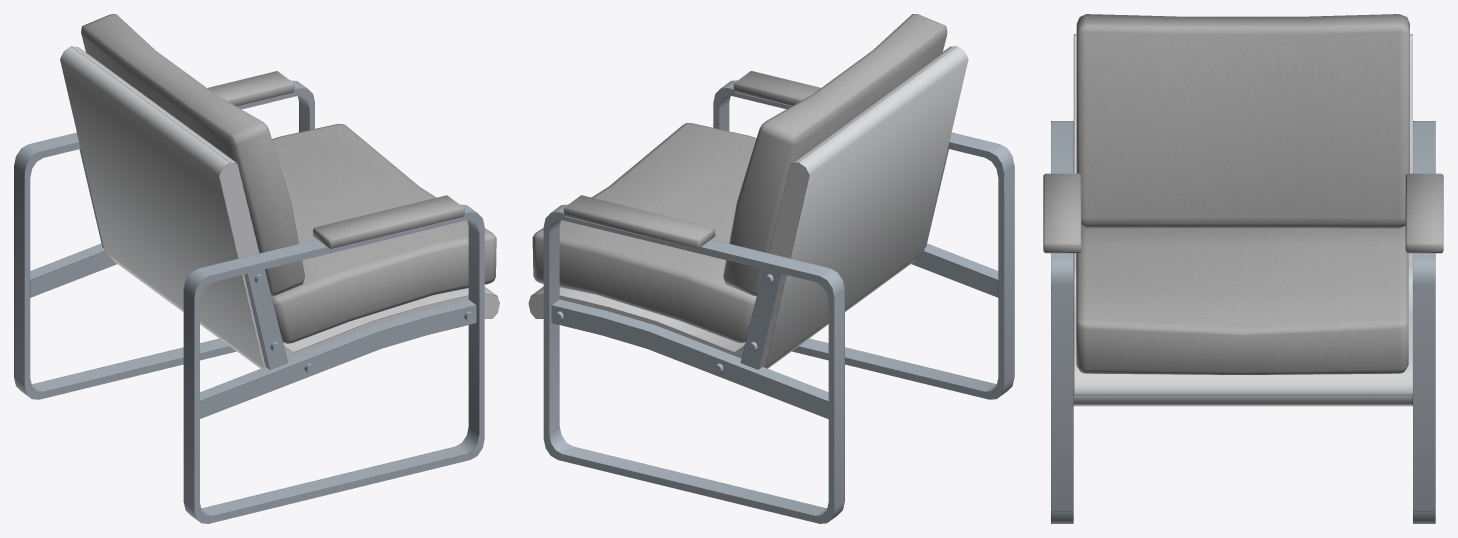
The model's file is Chair_02.FBX.
3 views of the same model, side by side, from view 1: azimuth 30°, elevation 25°; view 2: azimuth 150°, elevation 25°; view 3: azimuth 270°, elevation 25° (orthographic). The views are drawn at different scales.
Parts seen in each view (by area): view 1: Chair_02, Tissus; view 2: Chair_02, Tissus; view 3: Tissus, Chair_02.
Part boxes in pixels (box(x1,y1,x2,y2)): Chair_02: box(14, 46, 499, 523); Tissus: box(81, 14, 496, 343); Chair_02: box(528, 46, 1014, 523); Tissus: box(532, 14, 947, 343); Tissus: box(1043, 14, 1443, 374); Chair_02: box(1051, 34, 1435, 523).
Bounding box in the file's own units: 1.22 × 1.37 × 1.25.
1 material, 1 textured.
